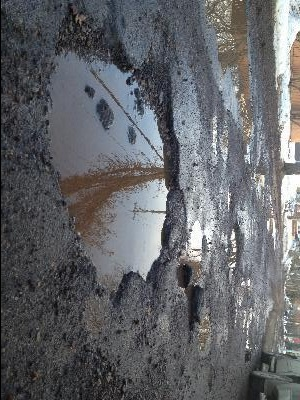pothole: (47, 17, 185, 304), (227, 224, 243, 271), (197, 312, 212, 359), (190, 219, 206, 261)
